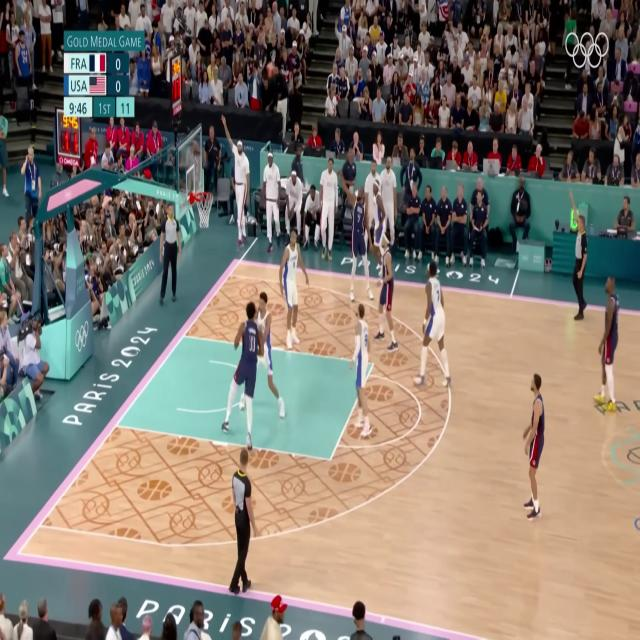player: (516, 378, 552, 534), (247, 291, 285, 421), (222, 304, 255, 452), (417, 256, 452, 394), (338, 175, 375, 304), (348, 299, 382, 439), (372, 219, 403, 358), (596, 276, 624, 424), (279, 231, 310, 355)
